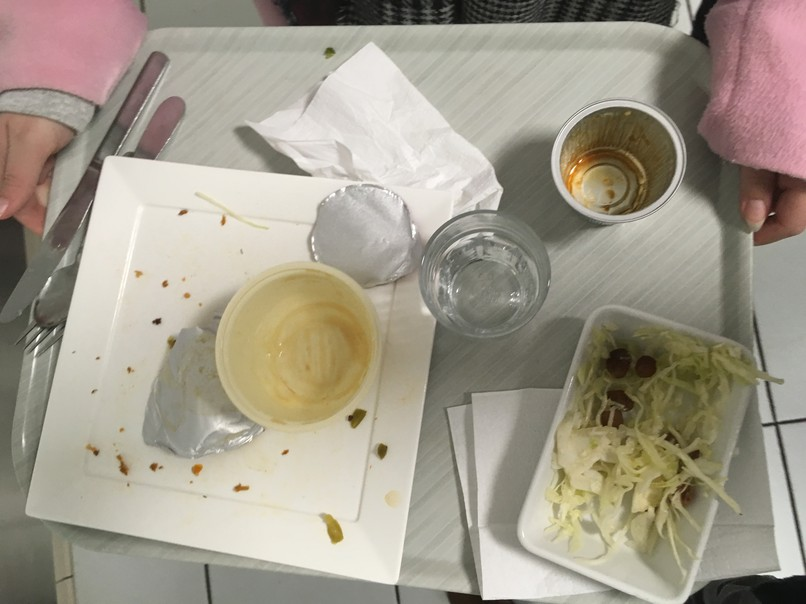cup: (413, 206, 558, 337)
cutlery: (99, 49, 201, 161), (1, 222, 86, 345)
orga: (580, 315, 715, 550)
trash: (253, 59, 511, 228), (443, 383, 599, 595), (218, 267, 389, 430), (548, 89, 690, 232), (152, 335, 262, 461), (308, 183, 427, 292)
